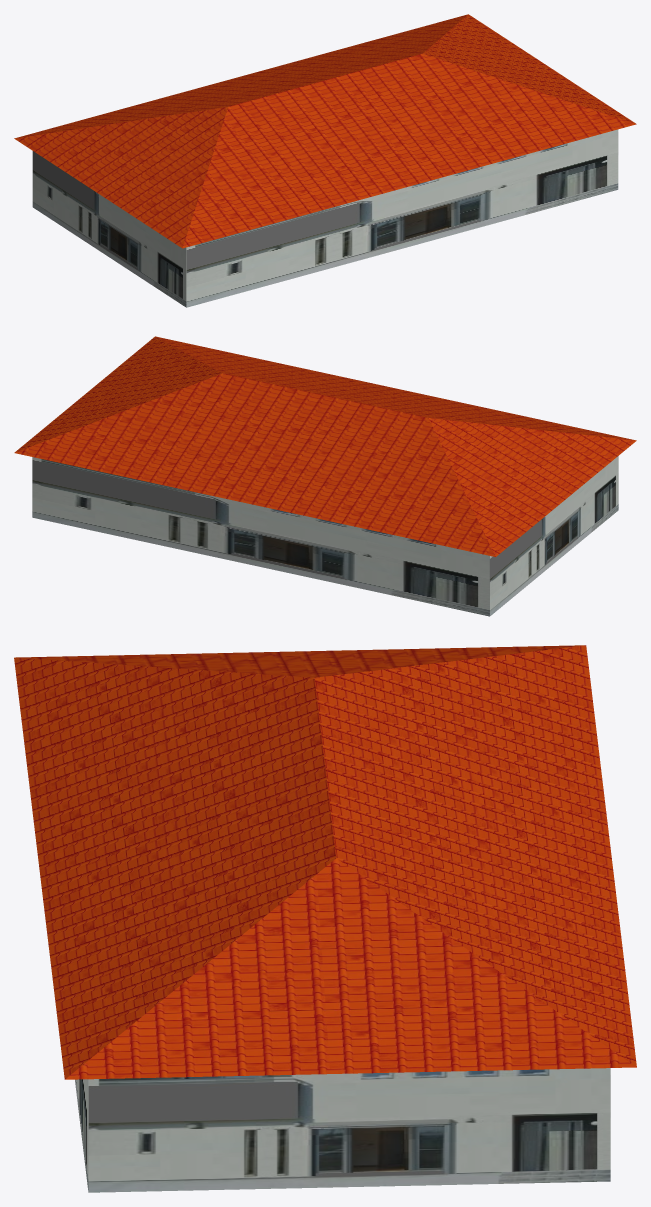
The picture shows the model from 3 angles, top to bottom: view 1: azimuth 30°, elevation 25°; view 2: azimuth 150°, elevation 25°; view 3: azimuth 270°, elevation 25°; orthographic projection. The views are drawn at different scales.
Parts seen in each view (by area): view 1: CityEngineMaterial_12_m, CityEngineMaterial_11_m; view 2: CityEngineMaterial_12_m, CityEngineMaterial_11_m; view 3: CityEngineMaterial_12_m, CityEngineMaterial_11_m.
Part boxes in pixels (bbox=[...]): CityEngineMaterial_12_m: bbox=[14, 14, 636, 248]; CityEngineMaterial_11_m: bbox=[32, 129, 618, 307]; CityEngineMaterial_12_m: bbox=[14, 336, 636, 556]; CityEngineMaterial_11_m: bbox=[32, 456, 618, 616]; CityEngineMaterial_12_m: bbox=[14, 645, 636, 1079]; CityEngineMaterial_11_m: bbox=[75, 1068, 610, 1192].
Bounding box in the file's own units: 38.68 × 9.07 × 23.44.
